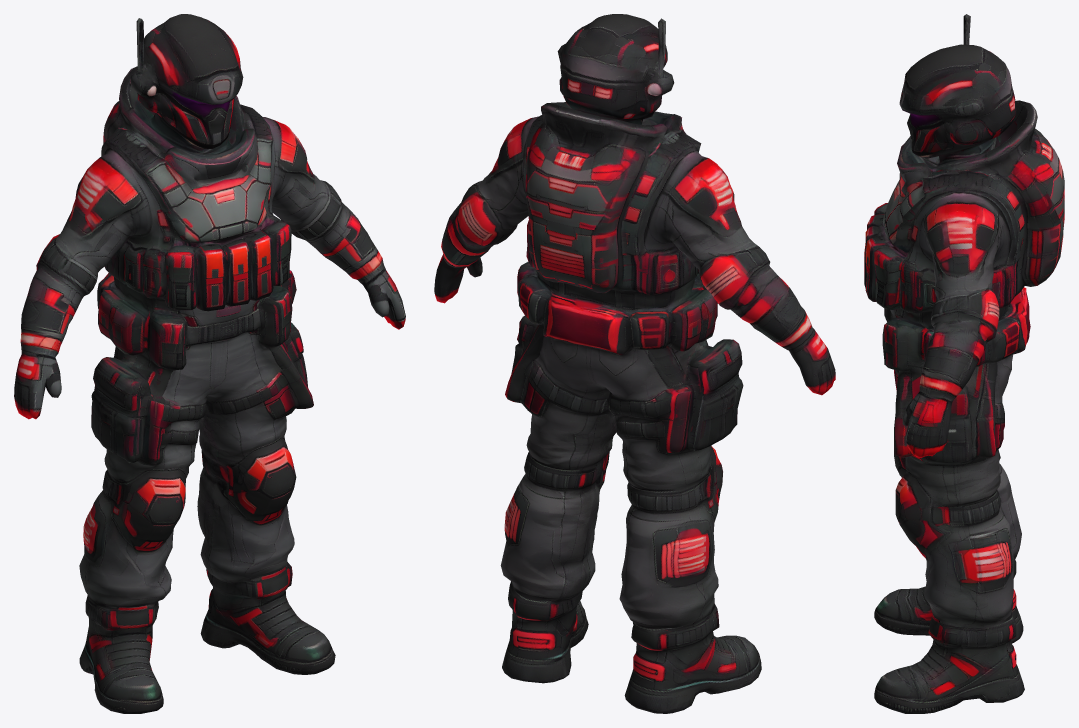
File: obsidianSentinelPlayerSecurity.glb
The picture shows the model from 3 angles, left to right: view 1: azimuth 30°, elevation 25°; view 2: azimuth 150°, elevation 25°; view 3: azimuth 270°, elevation 25°; orthographic projection. The views are drawn at different scales.
Visible parts, largest first — view 1: Mesh_0; view 2: Mesh_0; view 3: Mesh_0.
Part boxes in pixels (x1=…): Mesh_0: x1=14, y1=14, x2=405, y2=713; Mesh_0: x1=434, y1=14, x2=835, y2=713; Mesh_0: x1=864, y1=14, x2=1064, y2=713.
Size of the model in its own units: 1.1 by 1.8 by 0.5212.
1 material, 1 textured.
